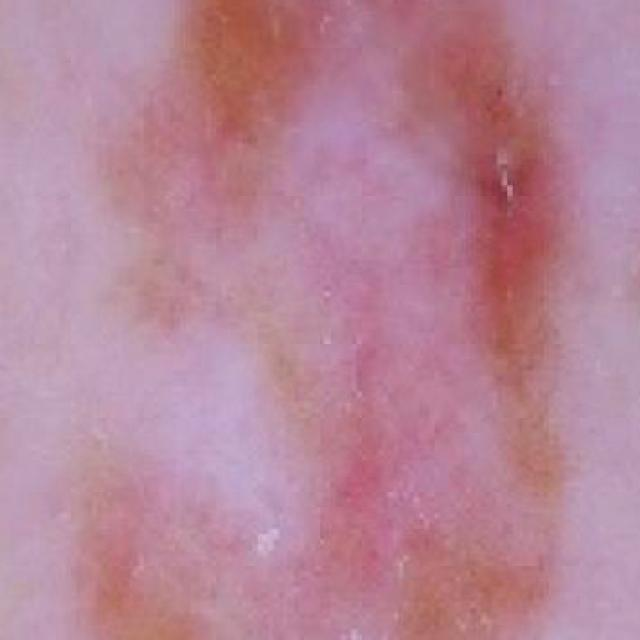MEL: (87, 0, 640, 640)
